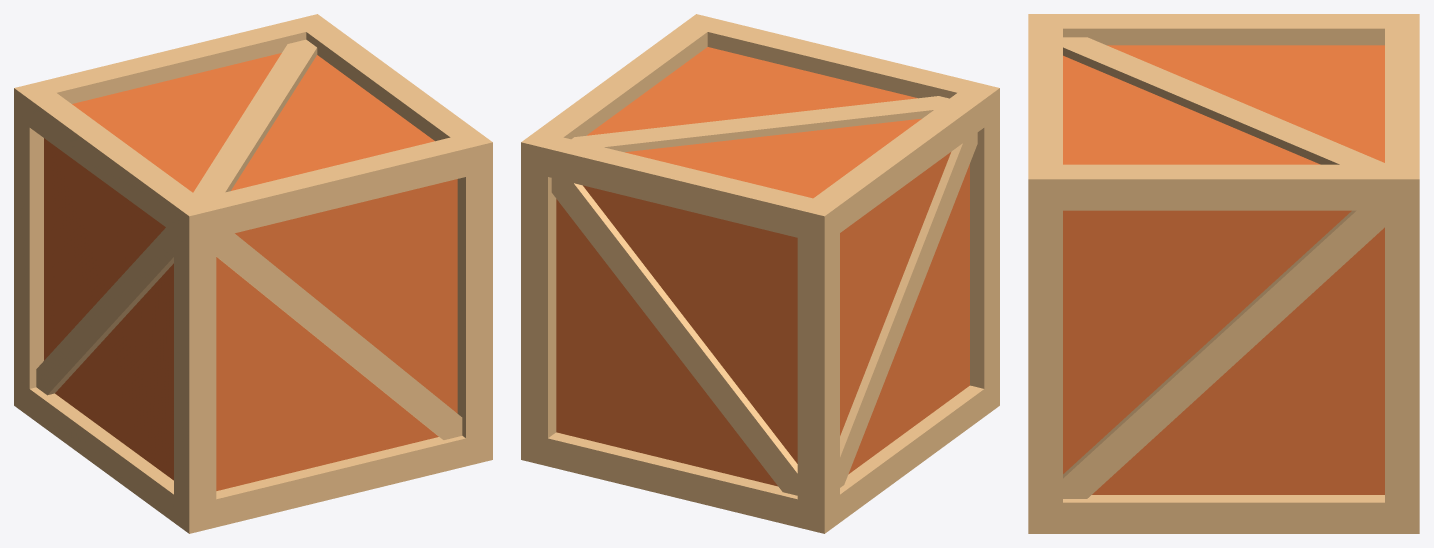
File: lowPolyCrate1.fbx
3 renders of one model, left to right at view 1: azimuth 30°, elevation 25°; view 2: azimuth 150°, elevation 25°; view 3: azimuth 270°, elevation 25°, orthographic. The views are drawn at different scales.
Visible parts, largest first — view 1: Cube; view 2: Cube; view 3: Cube.
Boxes of the visible parts, left/top/right/bottom form: Cube: left=14, top=14, right=492, bottom=533; Cube: left=521, top=14, right=999, bottom=533; Cube: left=1028, top=14, right=1419, bottom=533.
Bounding box in the file's own units: 200 × 200 × 200.
